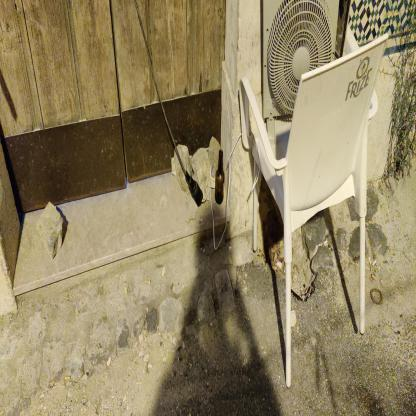Cigarette: (371, 274, 377, 281), (305, 287, 309, 296), (369, 261, 373, 270), (136, 380, 142, 385), (144, 279, 150, 284), (65, 375, 70, 381)
Glass bottle: (214, 149, 224, 204)
